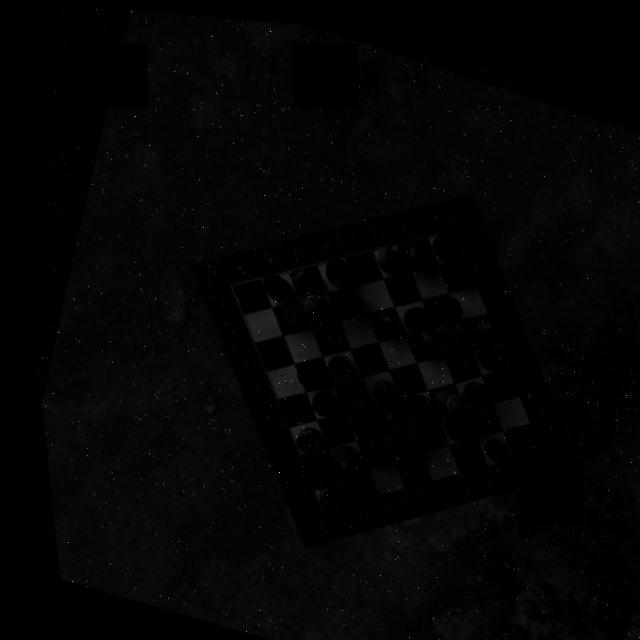chess-table-corners: (198, 263, 240, 299), (422, 202, 460, 236), (504, 419, 537, 456), (293, 490, 324, 521)
